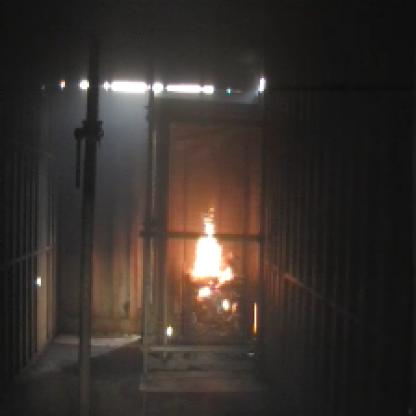Fire: (189, 210, 234, 306)
